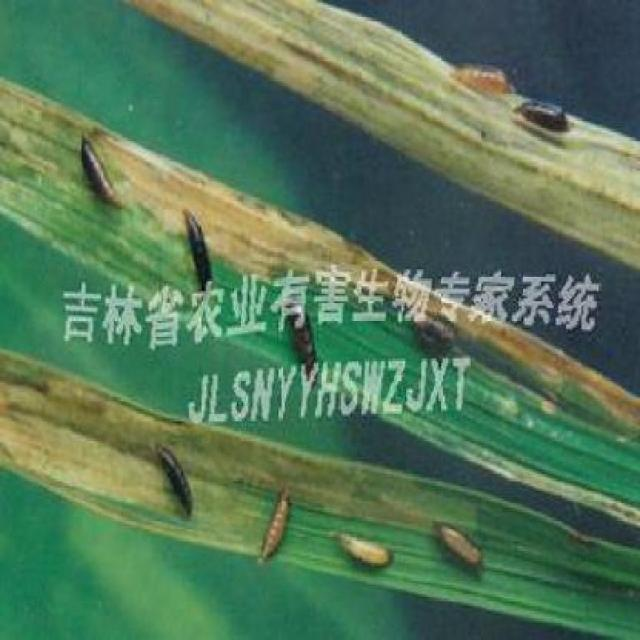whorl-maggot: (72, 126, 128, 219), (149, 436, 203, 530), (509, 77, 574, 143), (256, 472, 296, 577), (335, 518, 400, 577), (432, 514, 491, 577), (171, 202, 215, 280), (446, 55, 512, 100)
